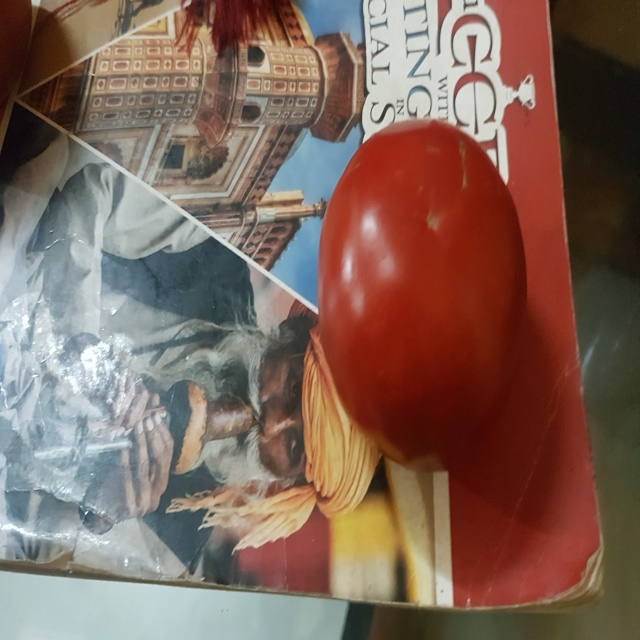tomato: (317, 115, 547, 483)
